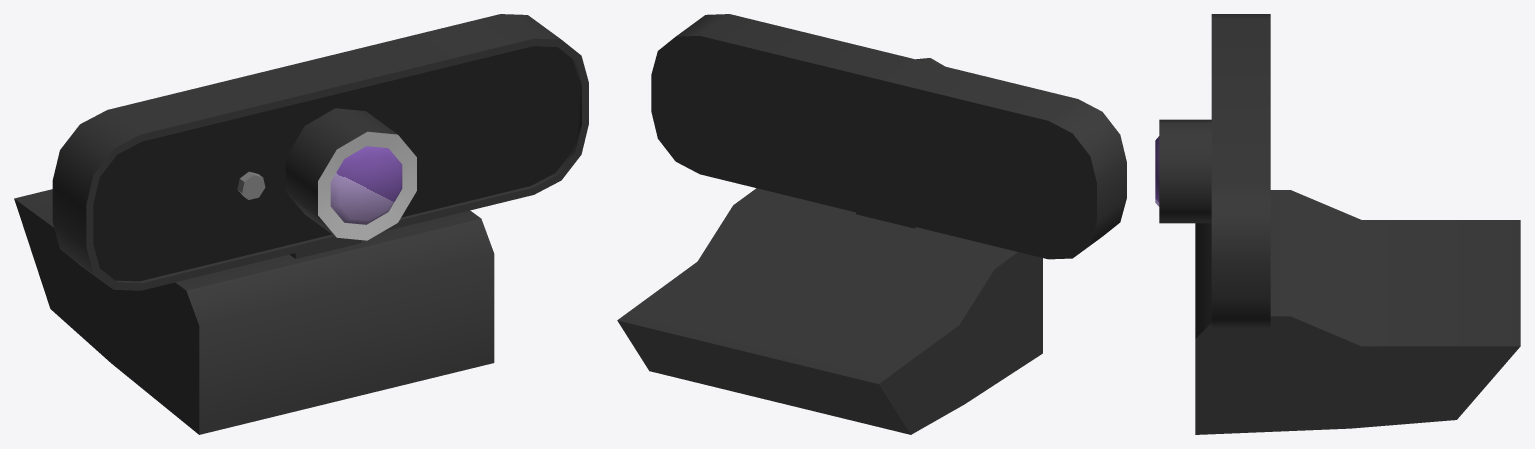
The model's file is webcam_1.glb.
The picture shows the model from 3 angles, left to right: view 1: azimuth 30°, elevation 25°; view 2: azimuth 150°, elevation 25°; view 3: azimuth 270°, elevation 25°; orthographic projection. The views are drawn at different scales.
Visible parts, largest first — view 1: Web Cam 2; view 2: Web Cam 2; view 3: Web Cam 2.
Boxes of the visible parts, x1=… form: Web Cam 2: x1=14, y1=14, x2=588, y2=434; Web Cam 2: x1=617, y1=14, x2=1126, y2=434; Web Cam 2: x1=1155, y1=14, x2=1520, y2=434.
Bounding box in the file's own units: 0.0813 × 0.0473 × 0.0583.
Materials: 1 (1 with a texture image).
